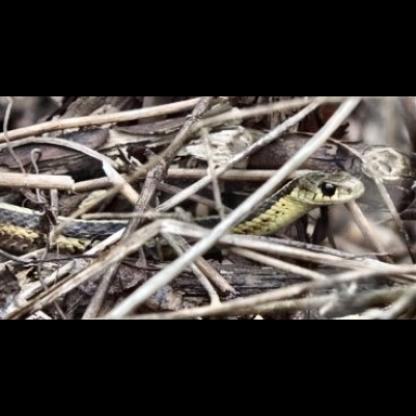Snake: (6, 168, 363, 257)
